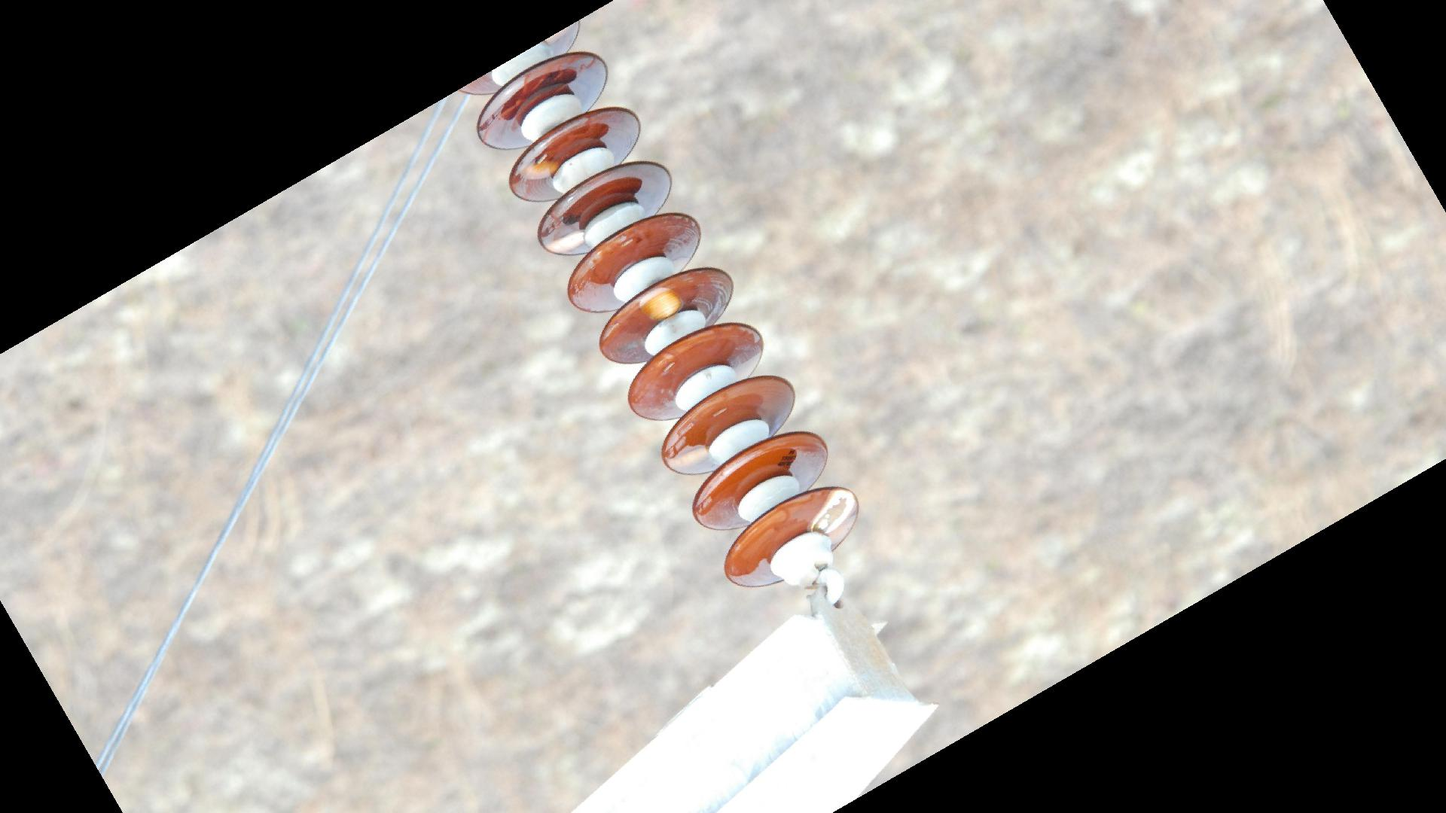insulator: (452, 12, 865, 596)
insulator_flashover: (807, 487, 858, 534), (636, 284, 684, 324), (665, 443, 709, 470), (544, 228, 587, 255), (517, 156, 560, 182)
